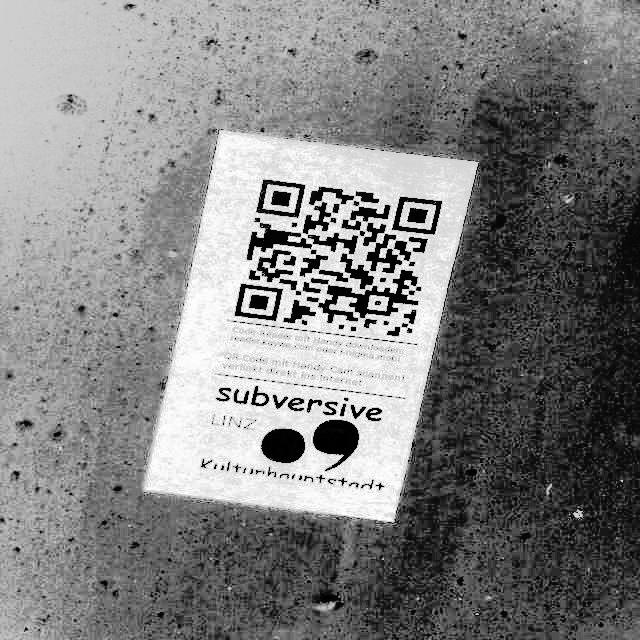qr_code: (234, 179, 443, 338)
